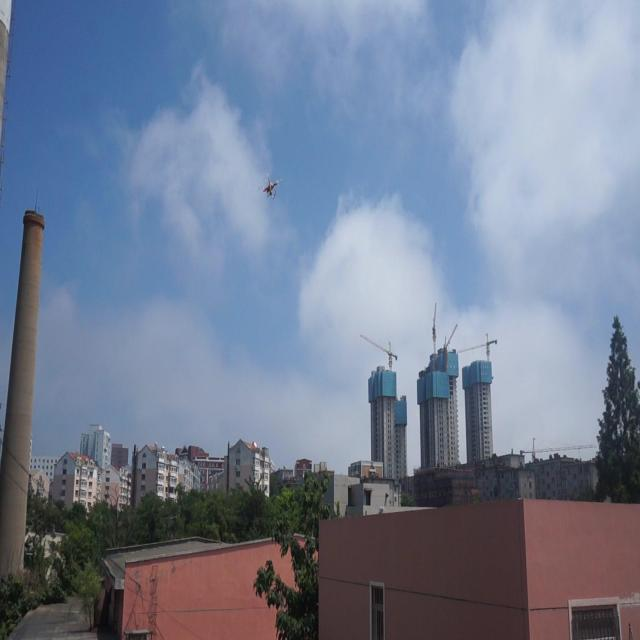UAV: (258, 173, 283, 199)
